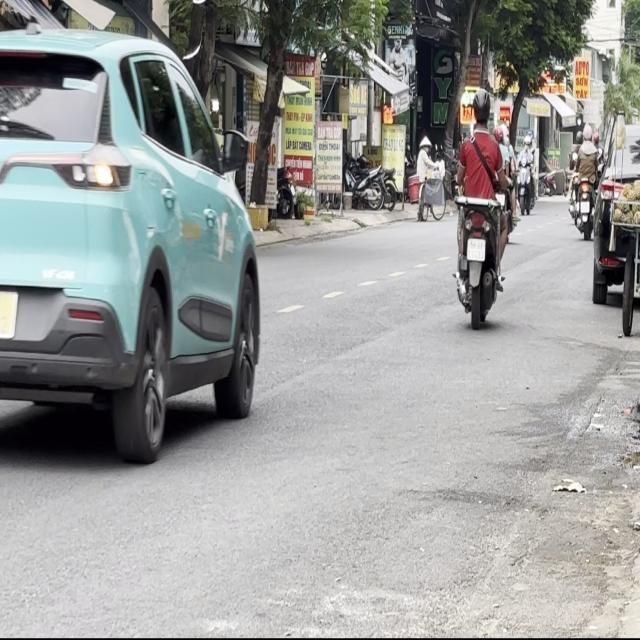helmet: (472, 86, 491, 128)
licenseplate: (449, 86, 510, 324)
nohelmet: (467, 238, 485, 260)
